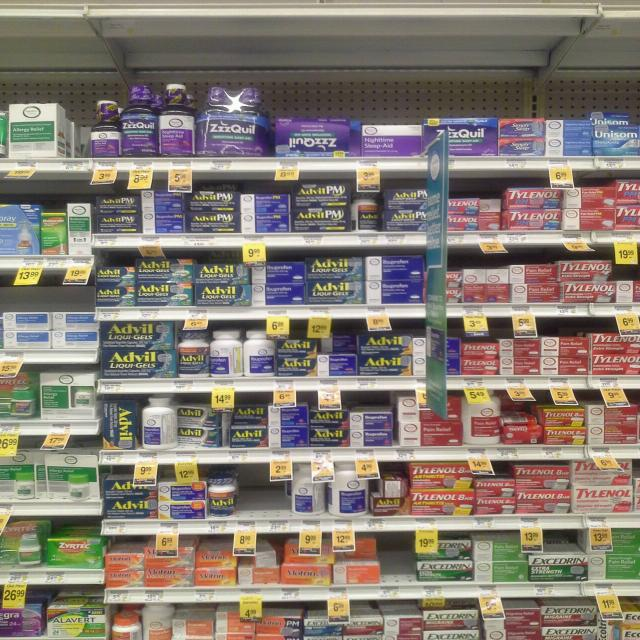unorganised: (275, 118, 350, 157), (176, 405, 229, 445), (371, 473, 410, 515), (351, 192, 382, 232), (419, 539, 470, 561), (337, 539, 379, 563), (317, 334, 357, 353), (241, 549, 281, 567)
